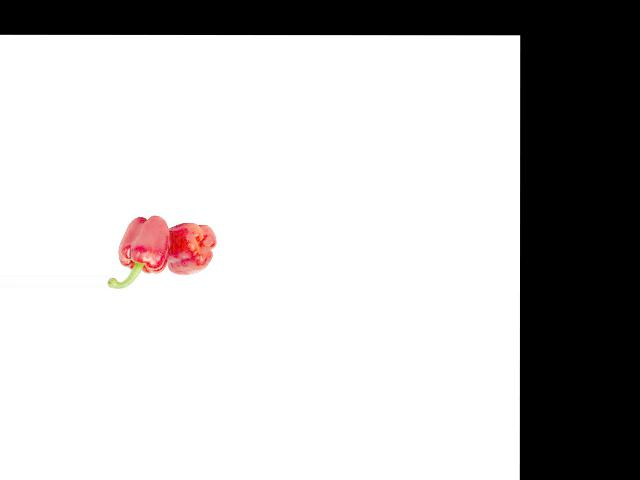bell_pepper: (167, 219, 216, 278)
